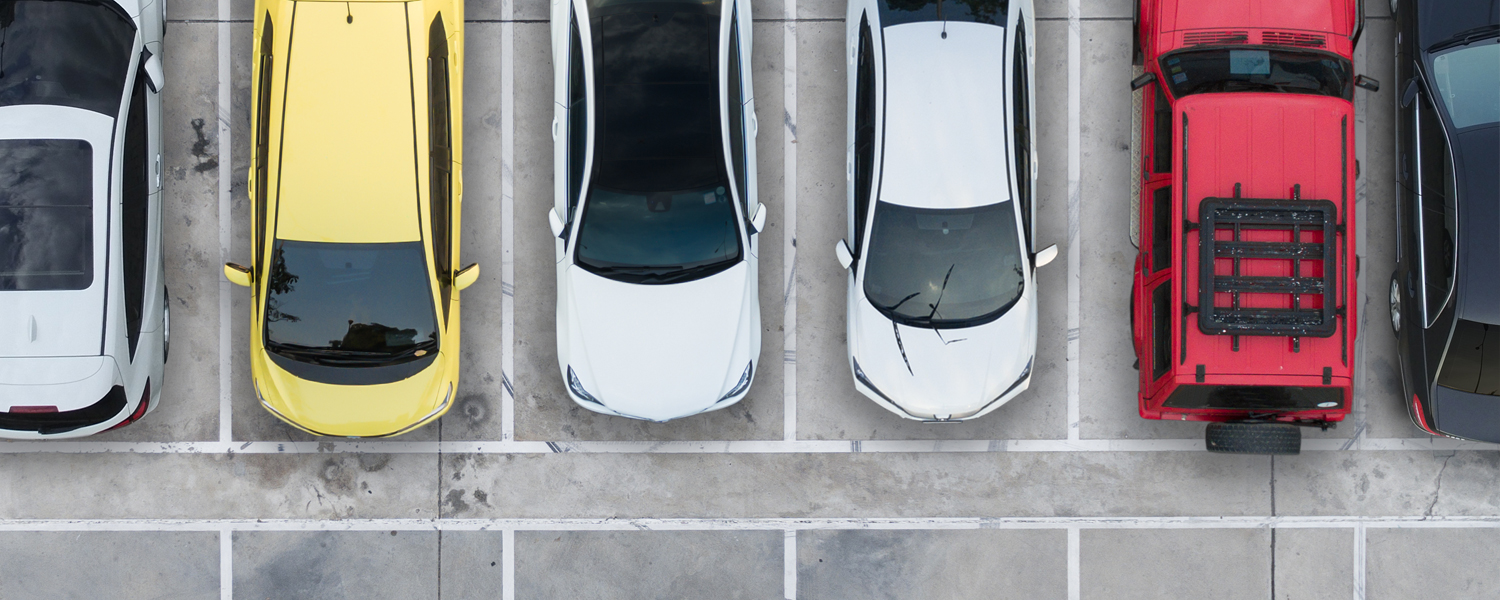Car: (227, 1, 472, 450), (1129, 1, 1363, 466), (537, 1, 771, 420), (833, 1, 1050, 426), (1, 1, 176, 450), (1389, 1, 1500, 458)
LaneMark: (1, 515, 1498, 533), (125, 440, 1201, 456), (780, 2, 808, 440), (215, 2, 238, 466), (1061, 5, 1082, 473), (498, 4, 513, 477), (779, 522, 802, 600), (1350, 519, 1370, 600), (1063, 523, 1084, 600), (218, 528, 235, 600), (500, 524, 516, 600)
